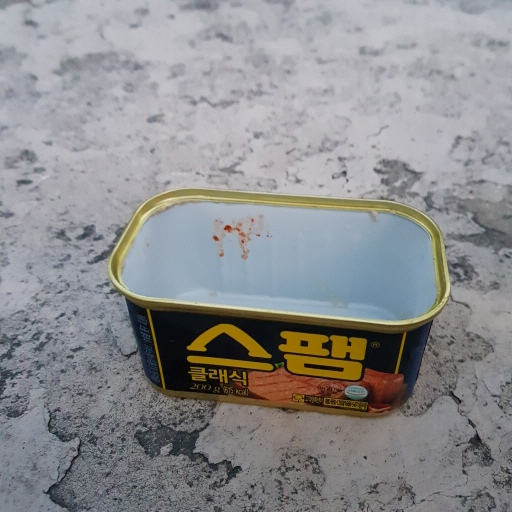Metal_2: (105, 186, 452, 420)
